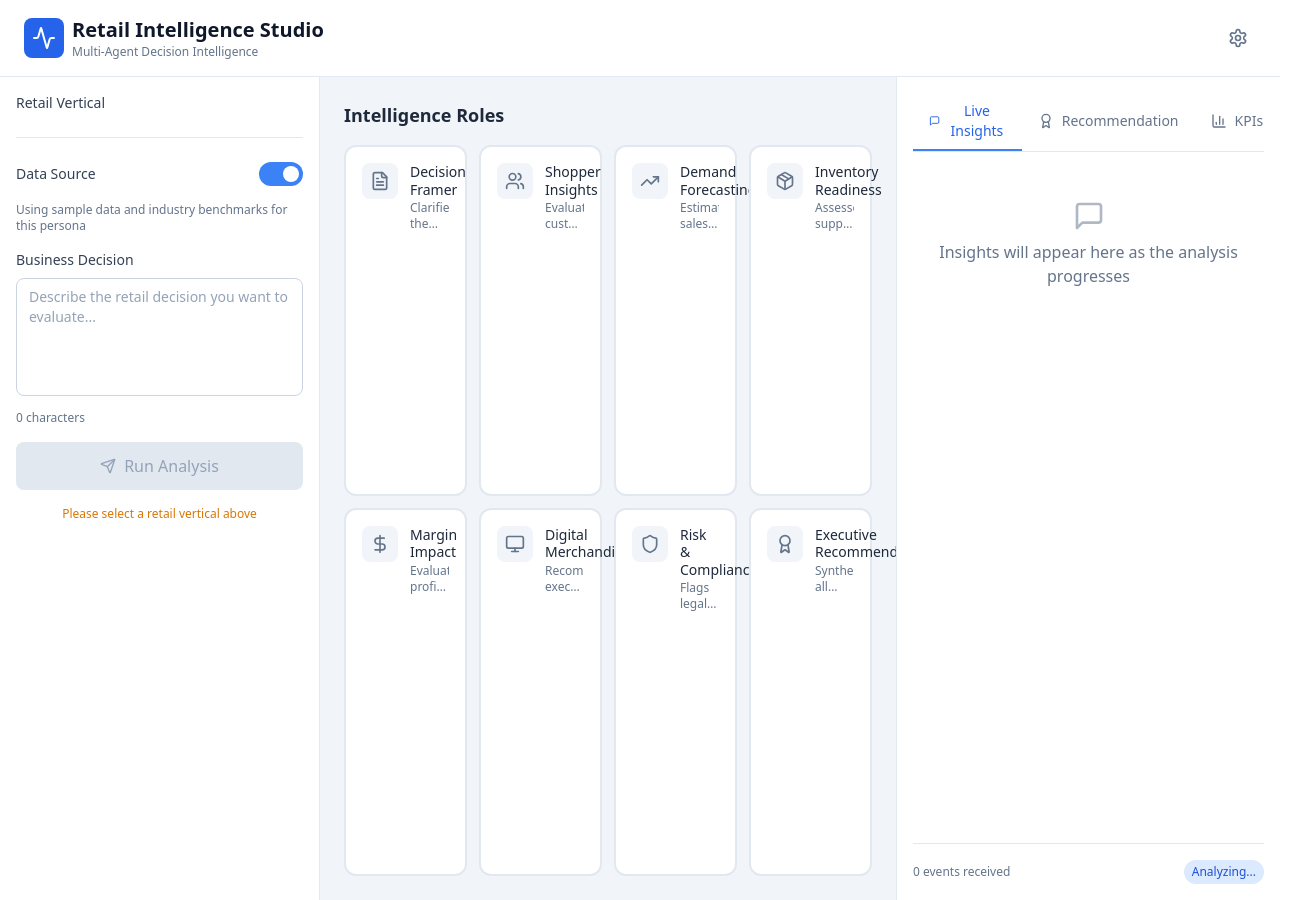
Test: App Smoke Tests › User Interactions › shows character count when typing
Type "Test input text" into the text box.
click(160, 337); type("Test input text")  # box [16,278,303,396]
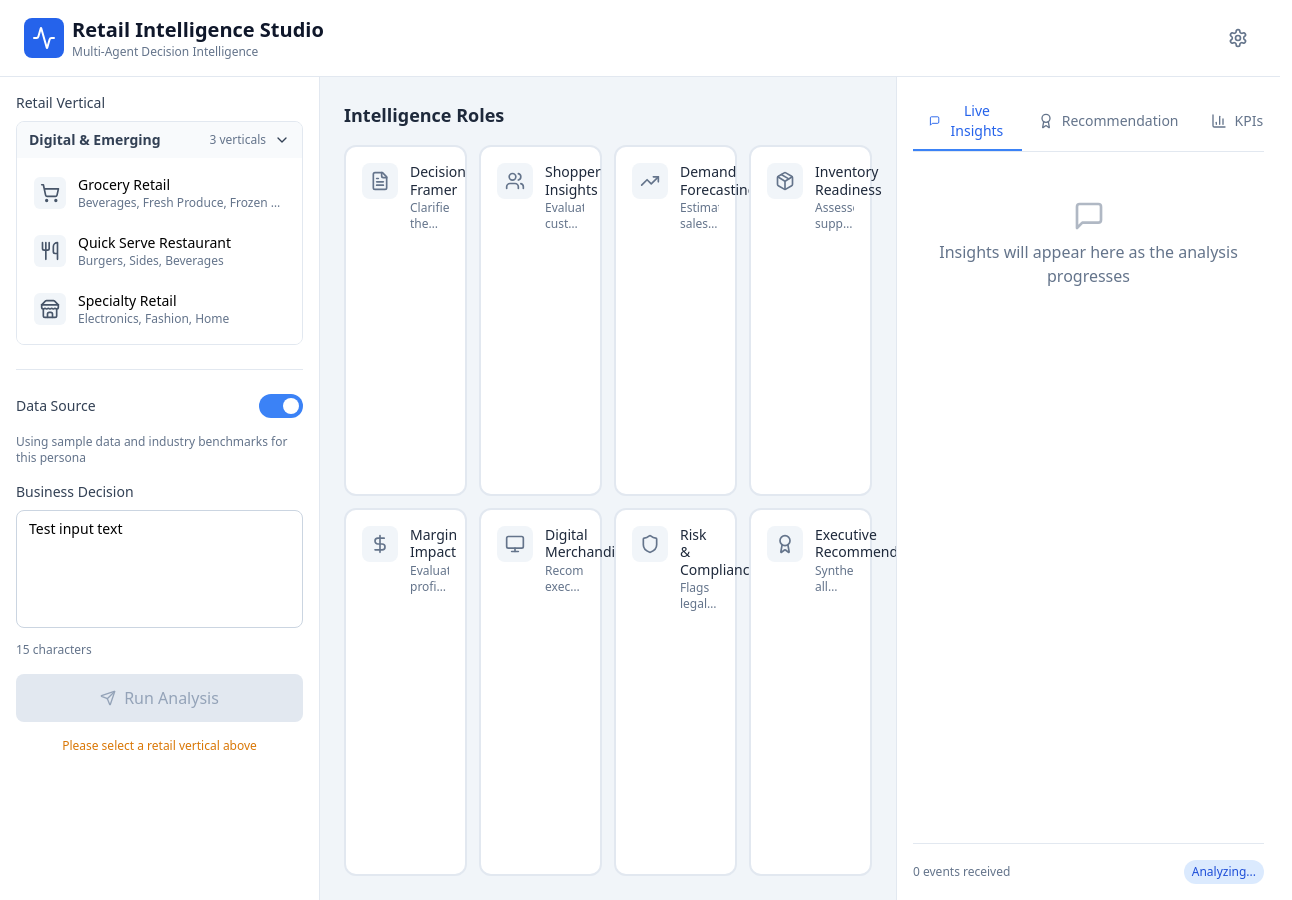
Now the text "15 characters" is shown, box [16,642,92,658]
